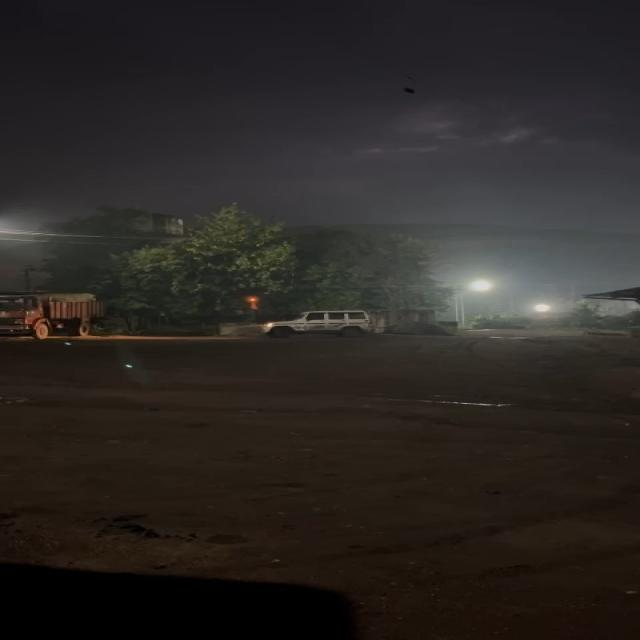light_vehicle: (251, 310, 375, 338)
